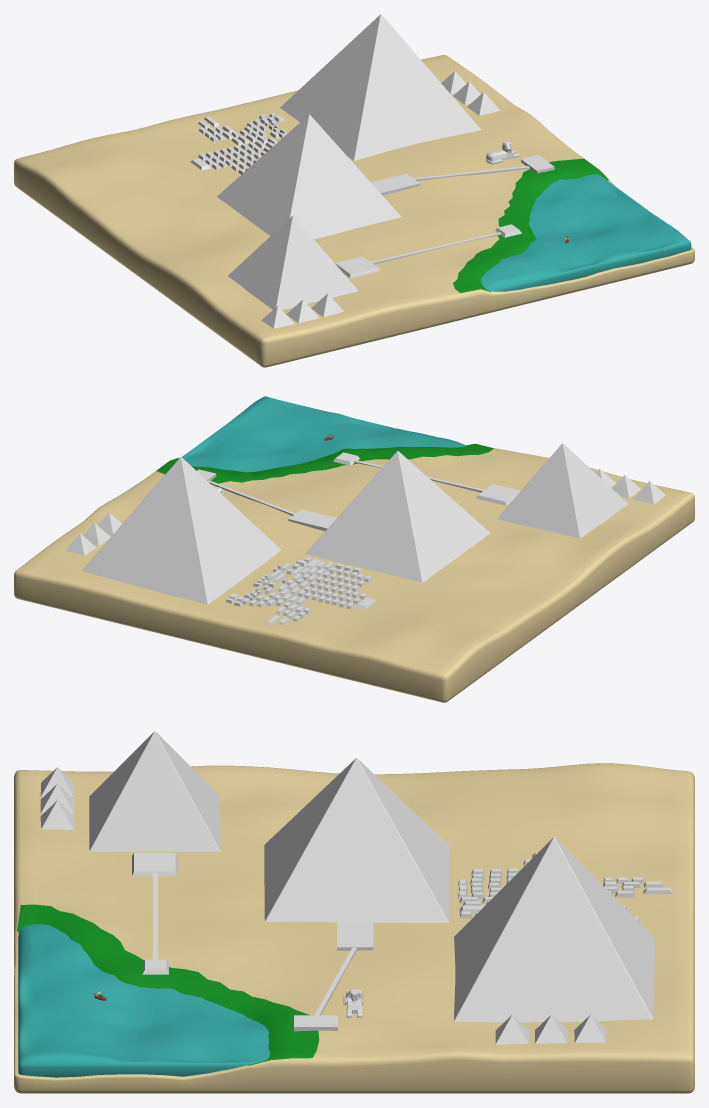
File: PyramidsOfGiza6.glb
3 views of the same model, one above another, from view 1: azimuth 30°, elevation 25°; view 2: azimuth 150°, elevation 25°; view 3: azimuth 270°, elevation 25° (orthographic). The views are drawn at different scales.
Parts seen in each view (by area): view 1: BASE, Pyramid_L, water, Pyramid_M, Pyramid_S, burials, extra bits; view 2: BASE, Pyramid_L, Pyramid_M, water, burials, Pyramid_S, extra bits; view 3: BASE, Pyramid_L, water, Pyramid_M, Pyramid_S, burials, extra bits.
Boxes of the visible parts, left/top/right/bottom form: BASE: left=14, top=55, right=694, bottom=367; Pyramid_L: left=280, top=14, right=481, bottom=160; water: left=481, top=174, right=691, bottom=291; Pyramid_M: left=217, top=114, right=401, bottom=239; Pyramid_S: left=228, top=215, right=358, bottom=309; burials: left=190, top=71, right=499, bottom=328; extra bits: left=335, top=155, right=554, bottom=277; BASE: left=14, top=443, right=694, bottom=702; Pyramid_L: left=82, top=457, right=281, bottom=604; Pyramid_M: left=305, top=451, right=490, bottom=582; water: left=176, top=396, right=466, bottom=472; burials: left=65, top=468, right=665, bottom=625; Pyramid_S: left=497, top=443, right=628, bottom=538; extra bits: left=197, top=452, right=520, bottom=531; BASE: left=14, top=763, right=694, bottom=1093; Pyramid_L: left=454, top=837, right=654, bottom=1022; water: left=18, top=924, right=270, bottom=1077; Pyramid_M: left=264, top=758, right=448, bottom=922; Pyramid_S: left=89, top=731, right=220, bottom=851; burials: left=40, top=767, right=672, bottom=1044; extra bits: left=132, top=853, right=373, bottom=1031.
Bounding box in the file's own units: 8 × 2.35 × 8.
